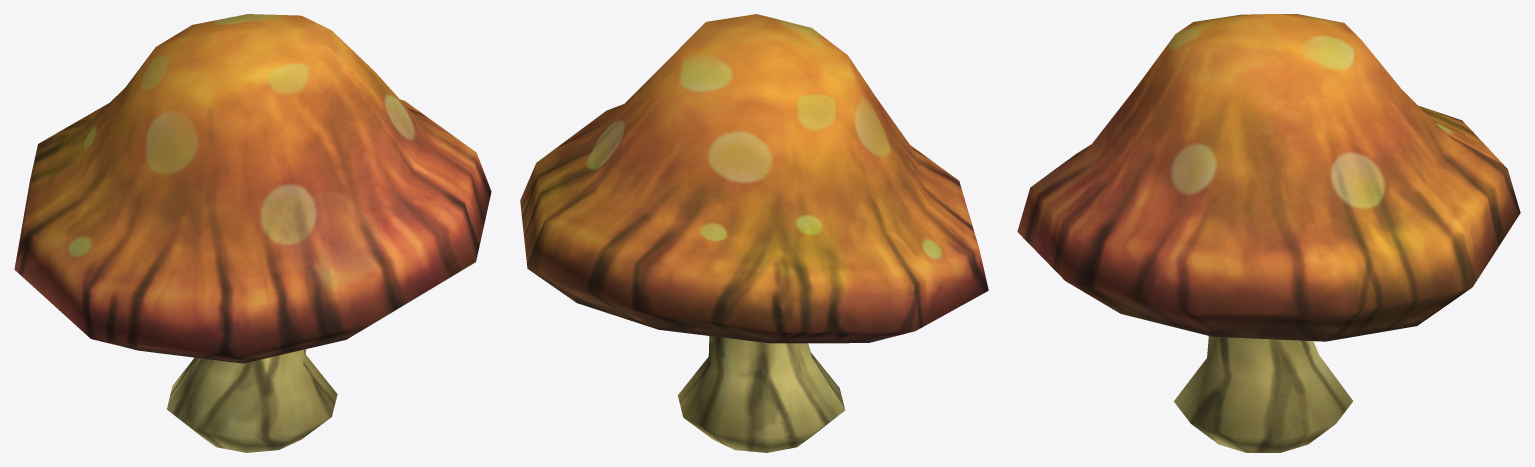
Rendered from mushroom.FBX.
3 renders of one model, left to right at view 1: azimuth 30°, elevation 25°; view 2: azimuth 150°, elevation 25°; view 3: azimuth 270°, elevation 25°, orthographic. The views are drawn at different scales.
Visible parts, largest first — view 1: mushroom; view 2: mushroom; view 3: mushroom.
Boxes of the visible parts, x1,y1,x2,y2 form: mushroom: [14, 14, 491, 452]; mushroom: [520, 14, 988, 452]; mushroom: [1017, 14, 1520, 452].
Bounding box in the file's own units: 1.25 × 1.18 × 1.31.
